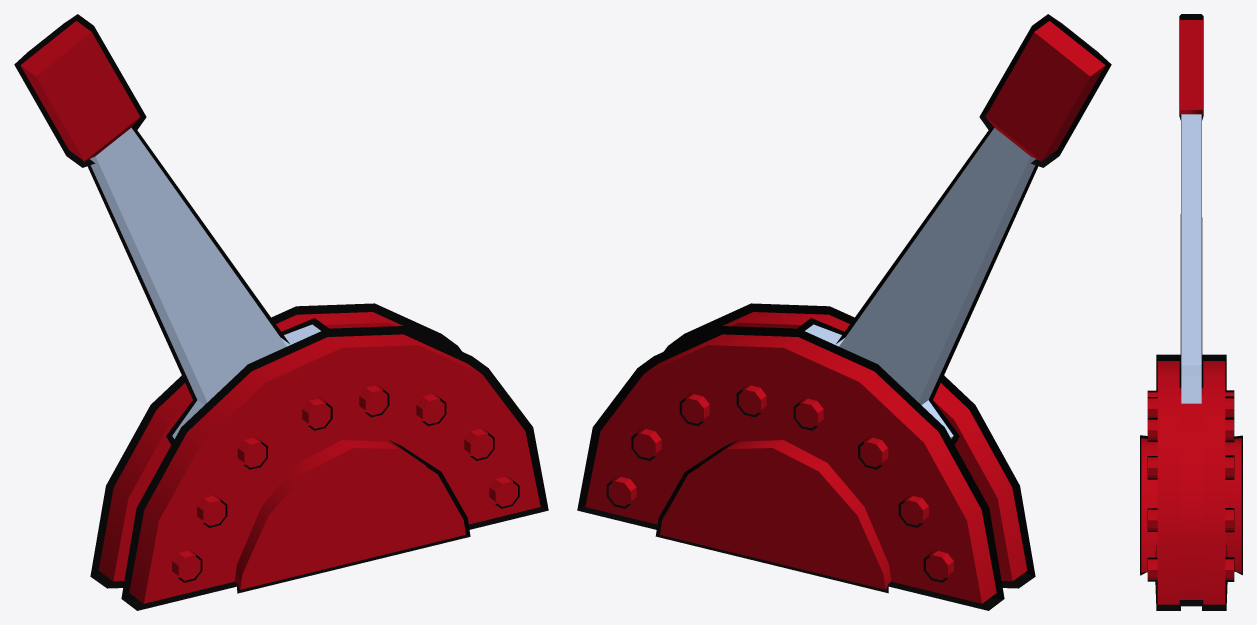
File: palancaRED.fbx
3 renders of one model, left to right at view 1: azimuth 30°, elevation 25°; view 2: azimuth 150°, elevation 25°; view 3: azimuth 270°, elevation 25°, orthographic. The views are drawn at different scales.
Parts seen in each view (by area): view 1: base_palanca, Palanca; view 2: base_palanca, Palanca; view 3: base_palanca, Palanca.
Part boxes in pixels (x1=…): base_palanca: x1=90, y1=303, x2=548, y2=610; Palanca: x1=14, y1=14, x2=328, y2=444; base_palanca: x1=577, y1=303, x2=1035, y2=610; Palanca: x1=797, y1=14, x2=1111, y2=444; base_palanca: x1=1140, y1=354, x2=1242, y2=610; Palanca: x1=1179, y1=14, x2=1203, y2=403.
Bounding box in the file's own units: 133 × 148 × 31.43.
